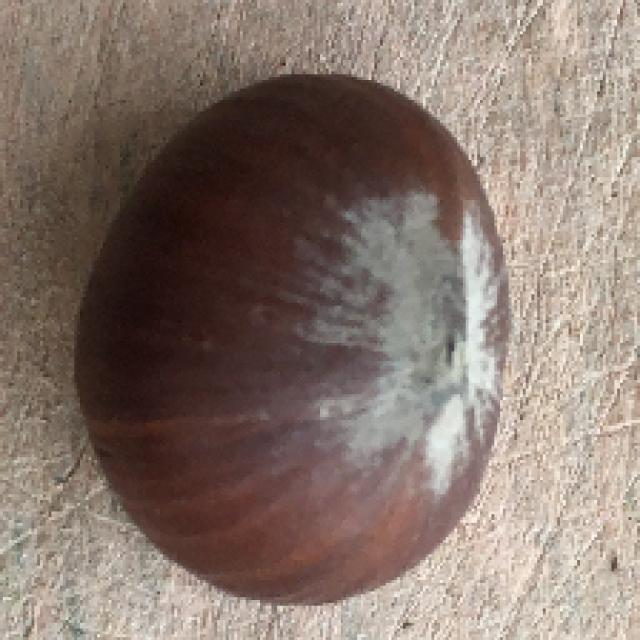DamagedHazelnut: (78, 72, 511, 608)
